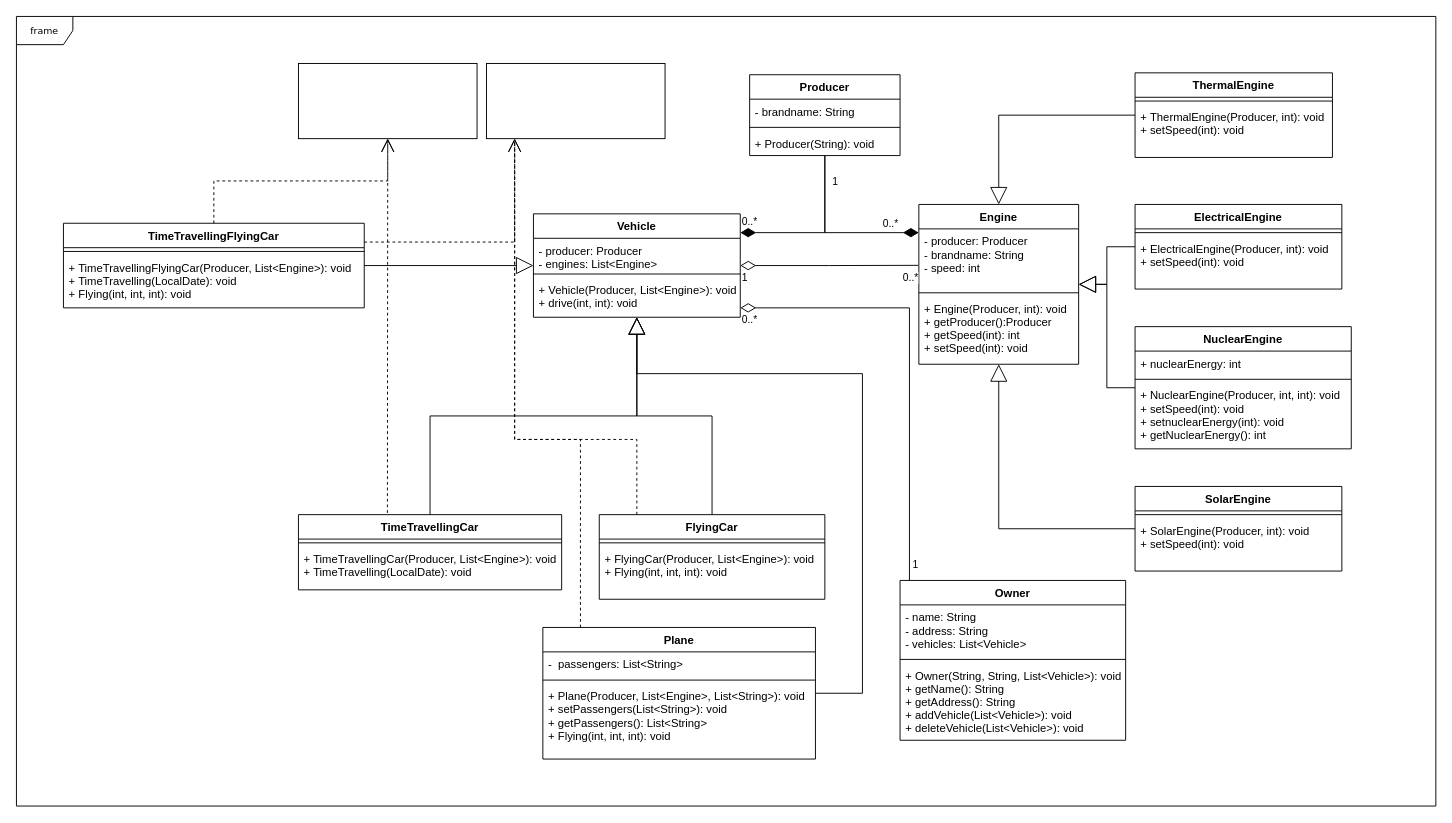
Some shapes in this 1452 by 823 pixel diagram are drawn without their labels. Here are the shapes that lost their labels. From the top down, the centre of each, then its label:
At (387,101): "<<TimeTravelling>> + TimeTravelling(LocalDate): void".
At (575,101): "<<Flying>> + Flying(int, int, int): void".
